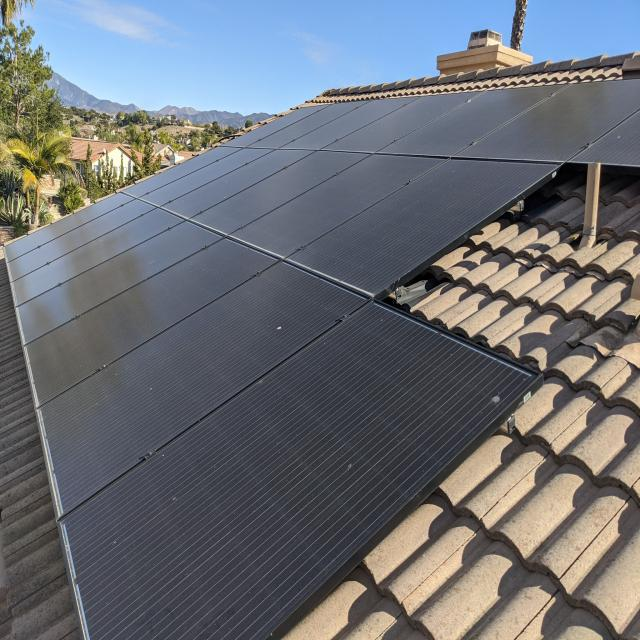dust-solar-panel: (25, 77, 640, 640)
